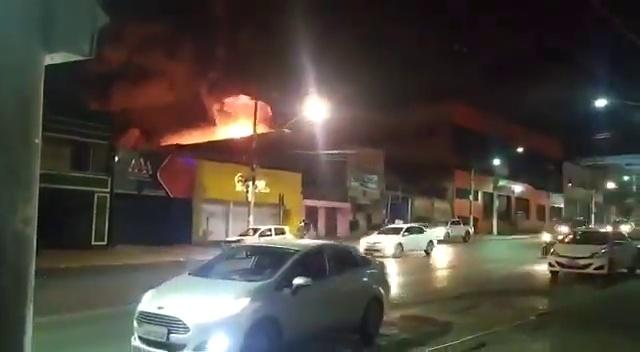fire: (209, 123, 256, 135)
